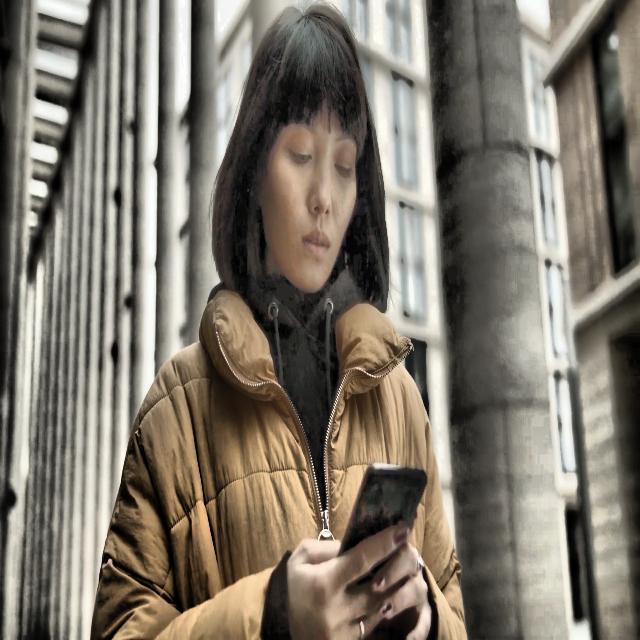Phone: (336, 461, 428, 575)
